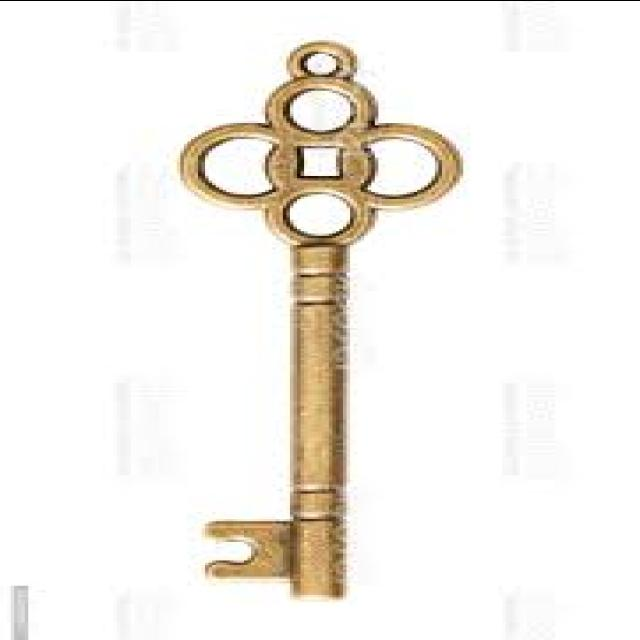key: (113, 33, 514, 622)
